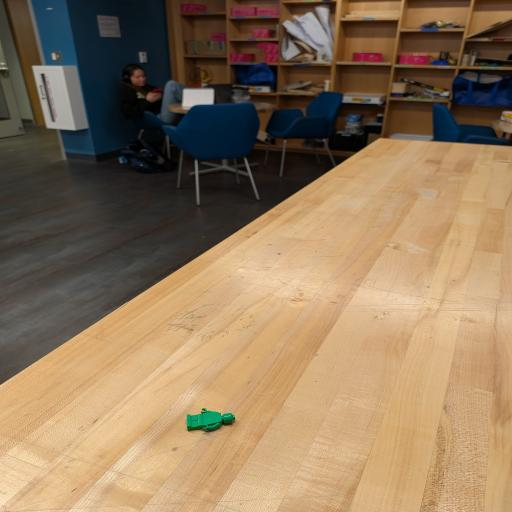Minifig: (187, 408, 234, 431)
